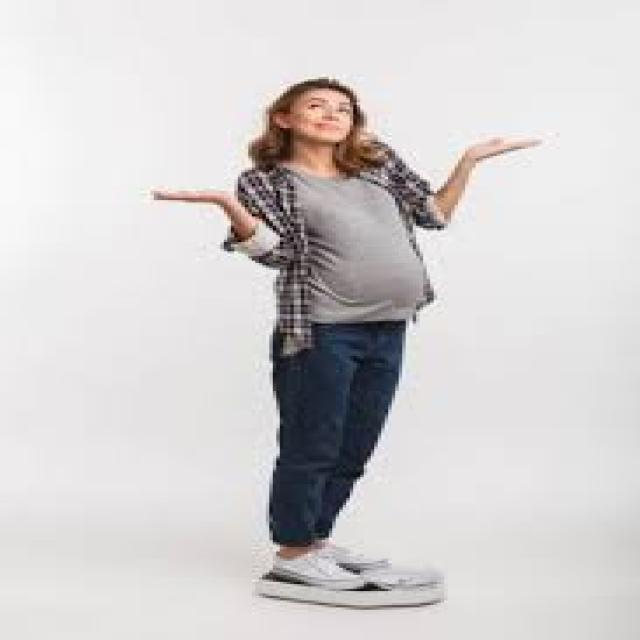adult: (126, 61, 563, 624)
